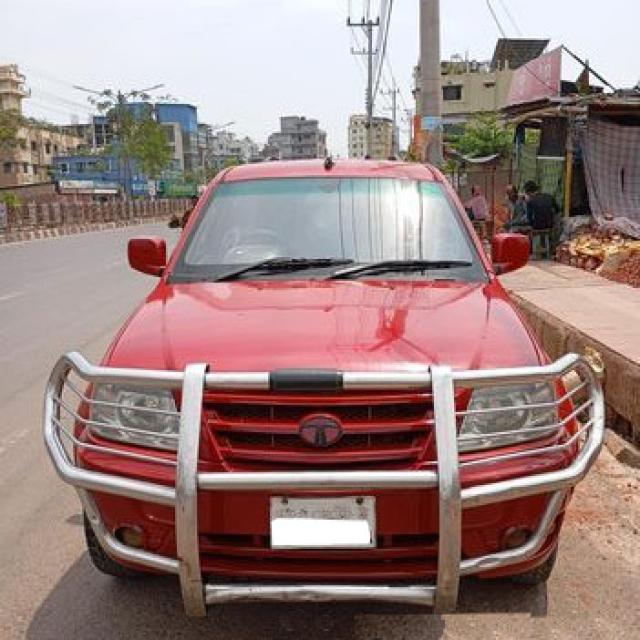red: (70, 165, 604, 614)
